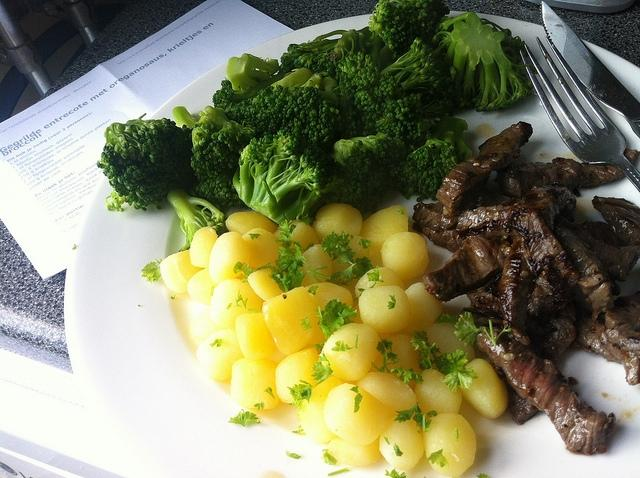broccoli: (232, 130, 346, 225), (432, 11, 537, 111), (99, 112, 201, 211), (224, 68, 344, 152), (325, 133, 419, 215), (379, 37, 464, 120), (393, 116, 472, 202), (172, 106, 257, 183), (368, 0, 452, 71), (278, 30, 348, 76), (292, 32, 358, 77), (354, 71, 405, 116), (224, 52, 280, 90), (342, 44, 381, 92)
potato: (262, 286, 326, 356), (324, 384, 386, 445), (422, 412, 477, 478), (322, 323, 382, 381), (358, 205, 408, 268), (299, 376, 343, 443), (462, 358, 508, 420), (390, 282, 442, 336), (197, 328, 244, 385), (230, 358, 282, 409), (358, 285, 412, 333), (276, 346, 322, 402), (414, 368, 462, 420), (379, 416, 425, 470), (356, 372, 416, 411), (381, 231, 428, 280), (383, 334, 422, 392), (209, 232, 250, 284), (210, 280, 254, 328), (312, 203, 363, 244), (423, 322, 475, 362), (160, 250, 204, 294), (236, 312, 276, 360), (327, 434, 385, 466), (354, 267, 406, 298), (242, 228, 280, 268), (304, 282, 354, 311), (273, 219, 320, 249), (301, 244, 333, 287), (226, 212, 280, 236), (188, 226, 218, 269), (248, 268, 286, 301), (186, 268, 218, 306)
